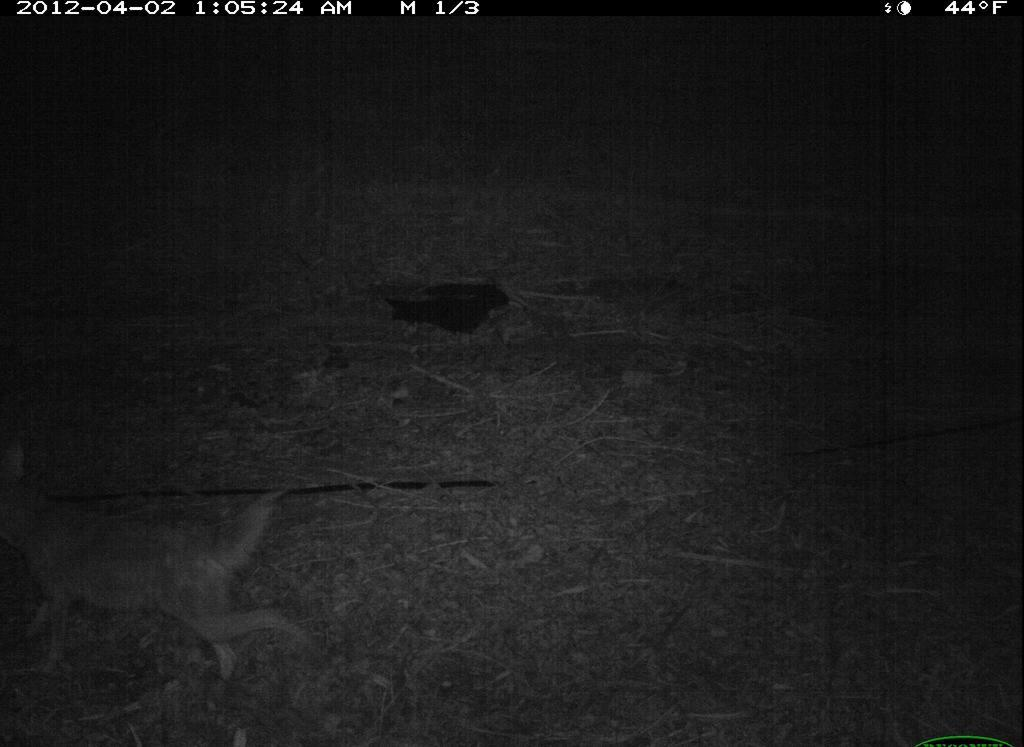coyote: (4, 446, 331, 698)
